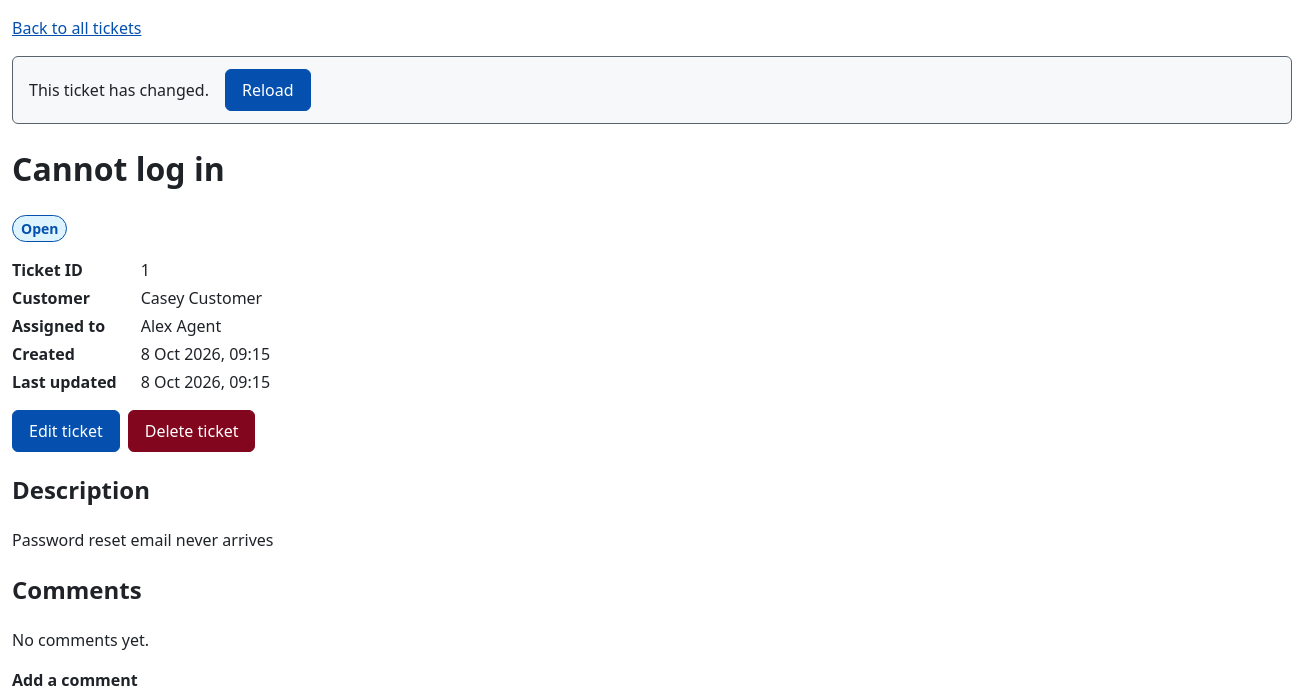
Test case: TicketDetailPage › when a notification arrives › loads the ticket and comments again when Reload is clicked
Check: the heading "Cannot log in" is shown, box left=12, top=147, right=225, bottom=190
Click the button "Reload": (268, 90) left=225, top=69, right=310, bottom=111
(page scrolled)
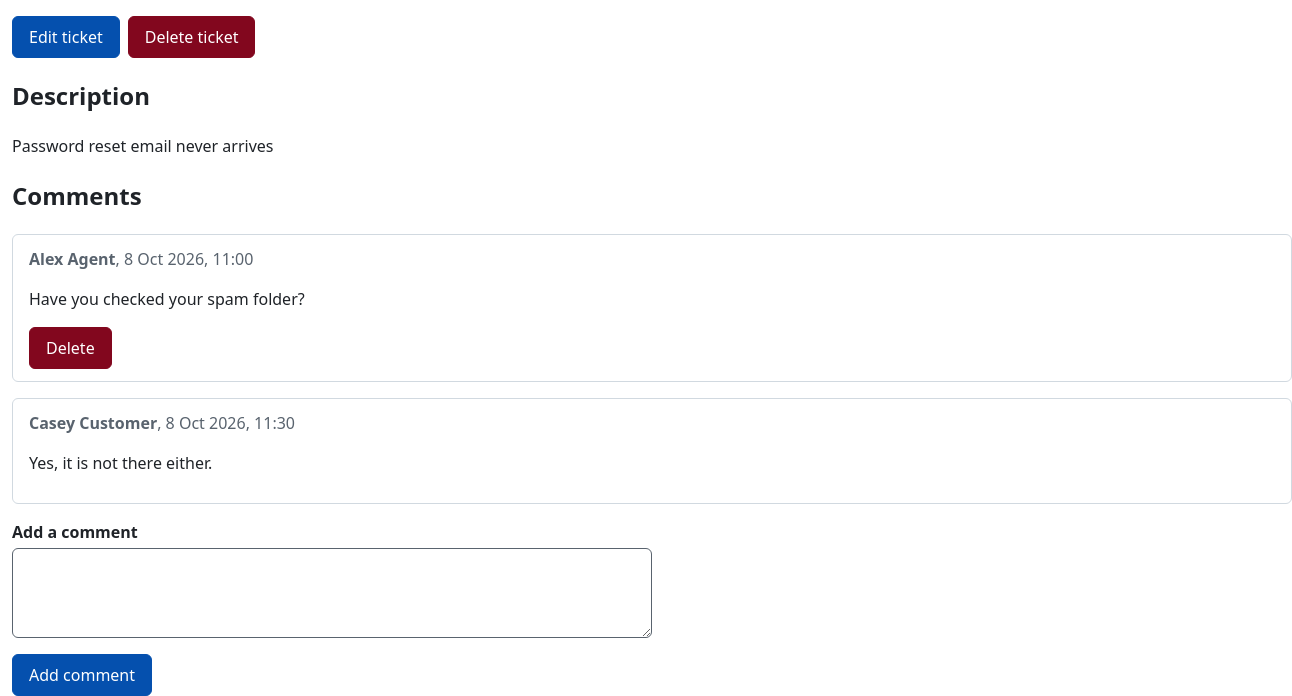
Check: the text "Yes, it is not there either." is shown, box left=29, top=452, right=212, bottom=474
Check: the text "This ticket has changed." is gone
